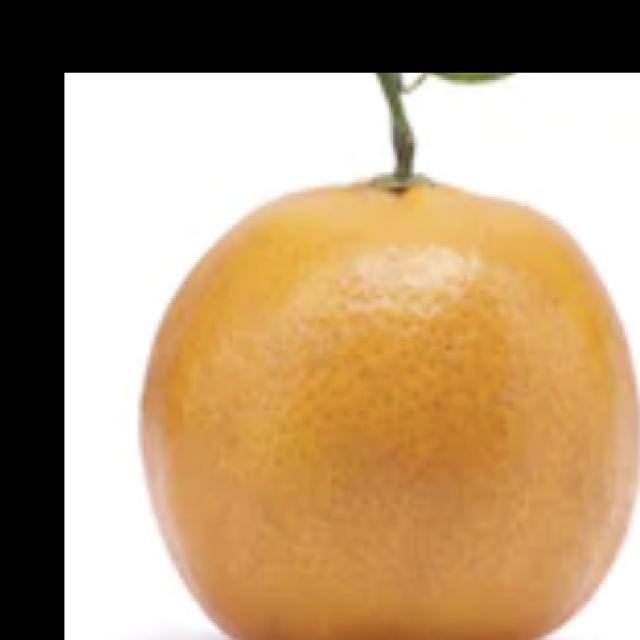orange: (132, 168, 640, 640)
